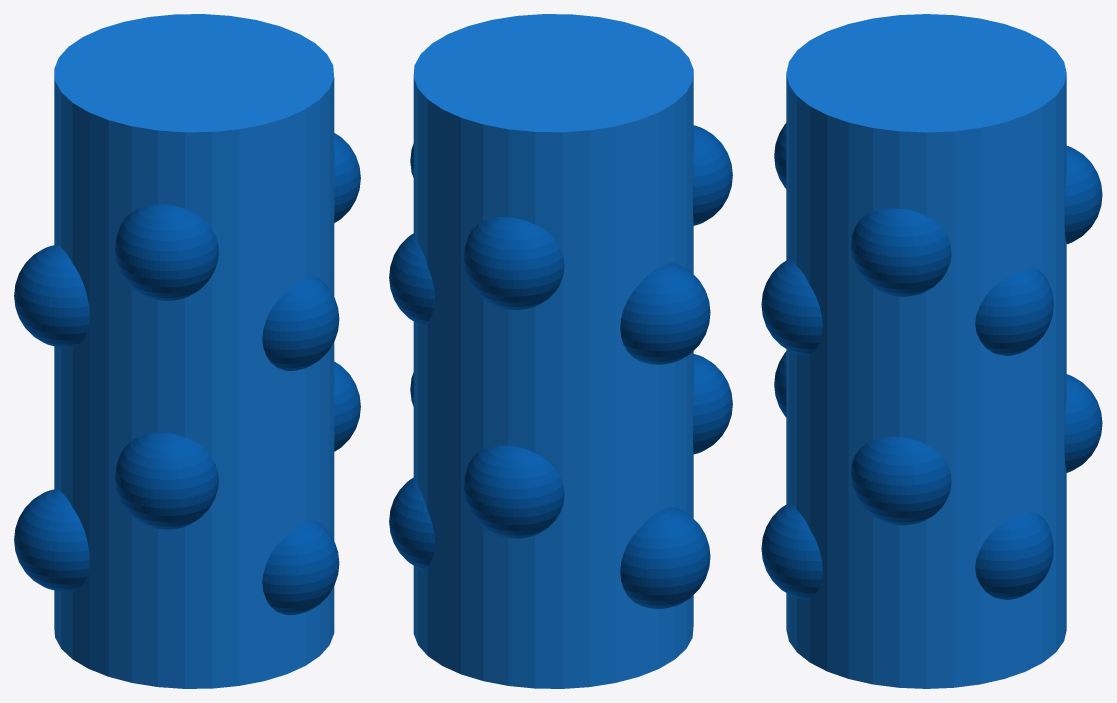
File: dikenli_silindir_engel.fbx
3 renders of one model, left to right at view 1: azimuth 30°, elevation 25°; view 2: azimuth 150°, elevation 25°; view 3: azimuth 270°, elevation 25°, orthographic.
Visible parts, largest first — view 1: Cylinder, Sphere.005, Sphere.004, Sphere.007, Sphere.006, Sphere.002, Sphere.003, Sphere, Sphere.001; view 2: Cylinder, Sphere.009, Sphere.008, Sphere.006, Sphere.007, Sphere.004, Sphere.005, Sphere.010, Sphere.011; view 3: Cylinder, Sphere, Sphere.001, Sphere.011, Sphere.010, Sphere.002, Sphere.003, Sphere.008, Sphere.009, Sphere.004, Sphere.005.
Part boxes in pixels (bbox=[...]): Cylinder: bbox=[54, 14, 334, 688]; Sphere.005: bbox=[115, 433, 218, 529]; Sphere.004: bbox=[115, 204, 218, 300]; Sphere.007: bbox=[14, 488, 89, 591]; Sphere.006: bbox=[14, 244, 89, 347]; Sphere.002: bbox=[262, 277, 339, 370]; Sphere.003: bbox=[262, 521, 339, 614]; Sphere: bbox=[334, 133, 360, 222]; Sphere.001: bbox=[334, 361, 360, 451]; Cylinder: bbox=[413, 14, 693, 688]; Sphere.009: bbox=[463, 445, 564, 538]; Sphere.008: bbox=[463, 217, 564, 310]; Sphere.006: bbox=[620, 263, 710, 364]; Sphere.007: bbox=[620, 507, 710, 608]; Sphere.004: bbox=[693, 125, 732, 225]; Sphere.005: bbox=[693, 354, 732, 454]; Sphere.010: bbox=[389, 233, 434, 325]; Sphere.011: bbox=[389, 477, 434, 569]; Cylinder: bbox=[786, 14, 1066, 688]; Sphere: bbox=[851, 208, 951, 296]; Sphere.001: bbox=[851, 436, 951, 525]; Sphere.011: bbox=[975, 512, 1053, 599]; Sphere.010: bbox=[975, 268, 1053, 355]; Sphere.002: bbox=[761, 259, 822, 355]; Sphere.003: bbox=[761, 503, 822, 599]; Sphere.008: bbox=[1064, 146, 1102, 244]; Sphere.009: bbox=[1064, 374, 1102, 472]; Sphere.004: bbox=[774, 123, 786, 188]; Sphere.005: bbox=[774, 351, 786, 417].
Bounding box in the file's own units: 136 × 234 × 130.
